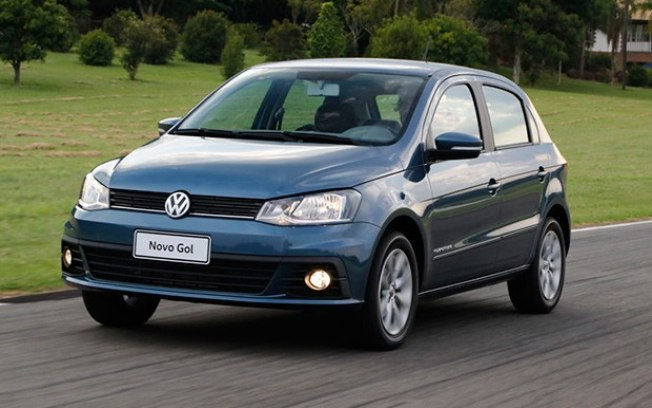Carro: (58, 52, 572, 351)
